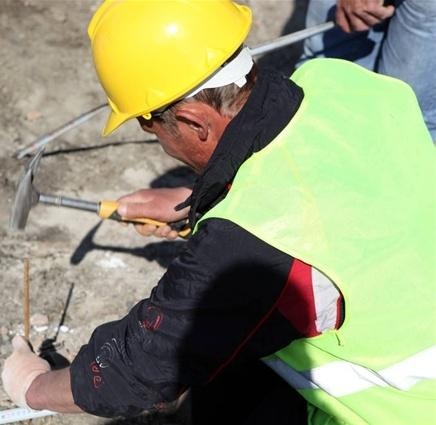gloves: (1, 333, 51, 411)
hard-hat: (87, 0, 253, 137)
vest: (66, 57, 434, 423)
